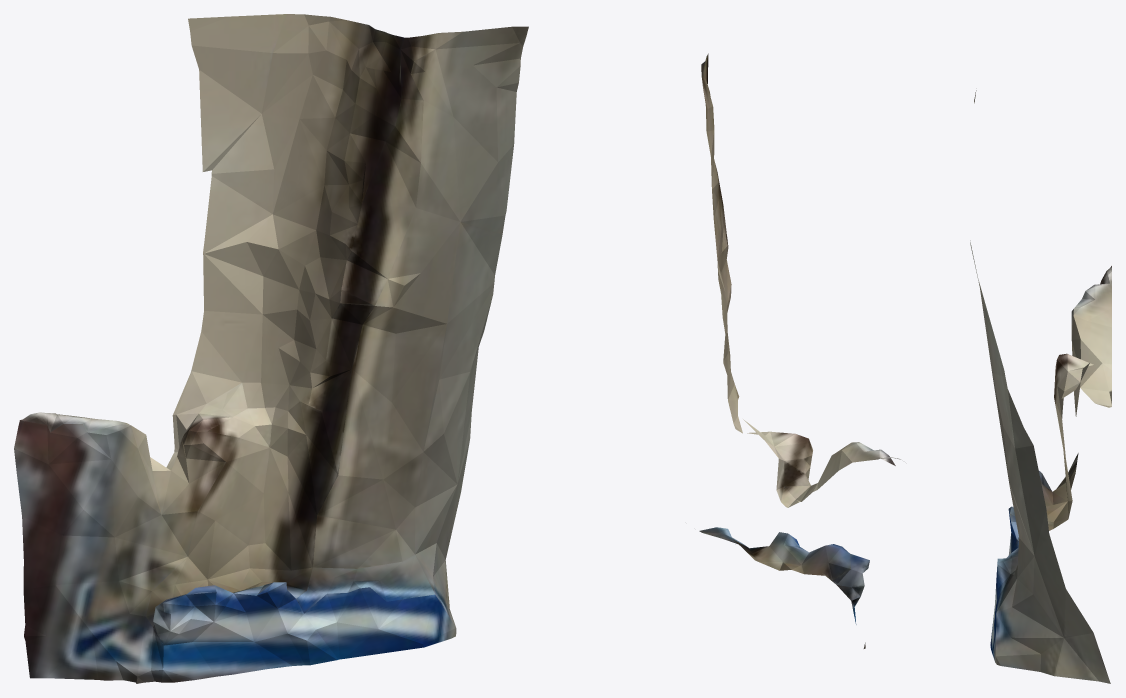
The picture shows the model from 3 angles, left to right: view 1: azimuth 30°, elevation 25°; view 2: azimuth 150°, elevation 25°; view 3: azimuth 270°, elevation 25°; orthographic projection. The views are drawn at different scales.
Bounding box in the file's own units: 1.19 × 1.67 × 0.4566.
Materials: 2 (2 with a texture image).
